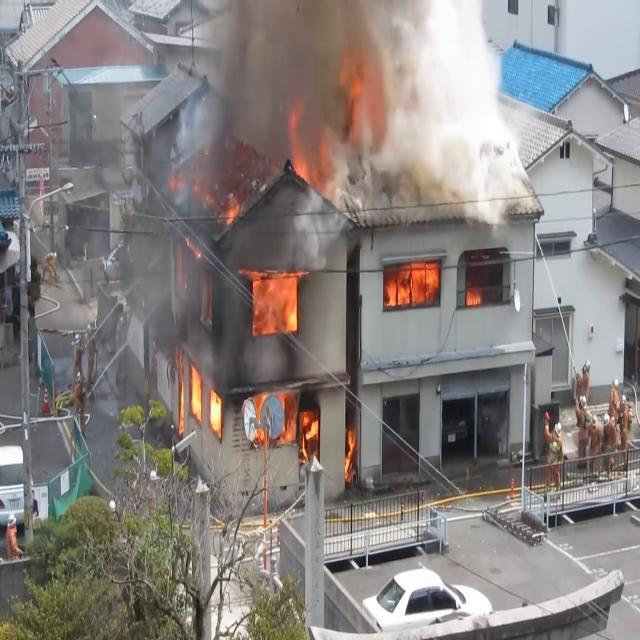Fire: (247, 266, 303, 336), (385, 248, 441, 310)
Smoke: (166, 0, 532, 209)
